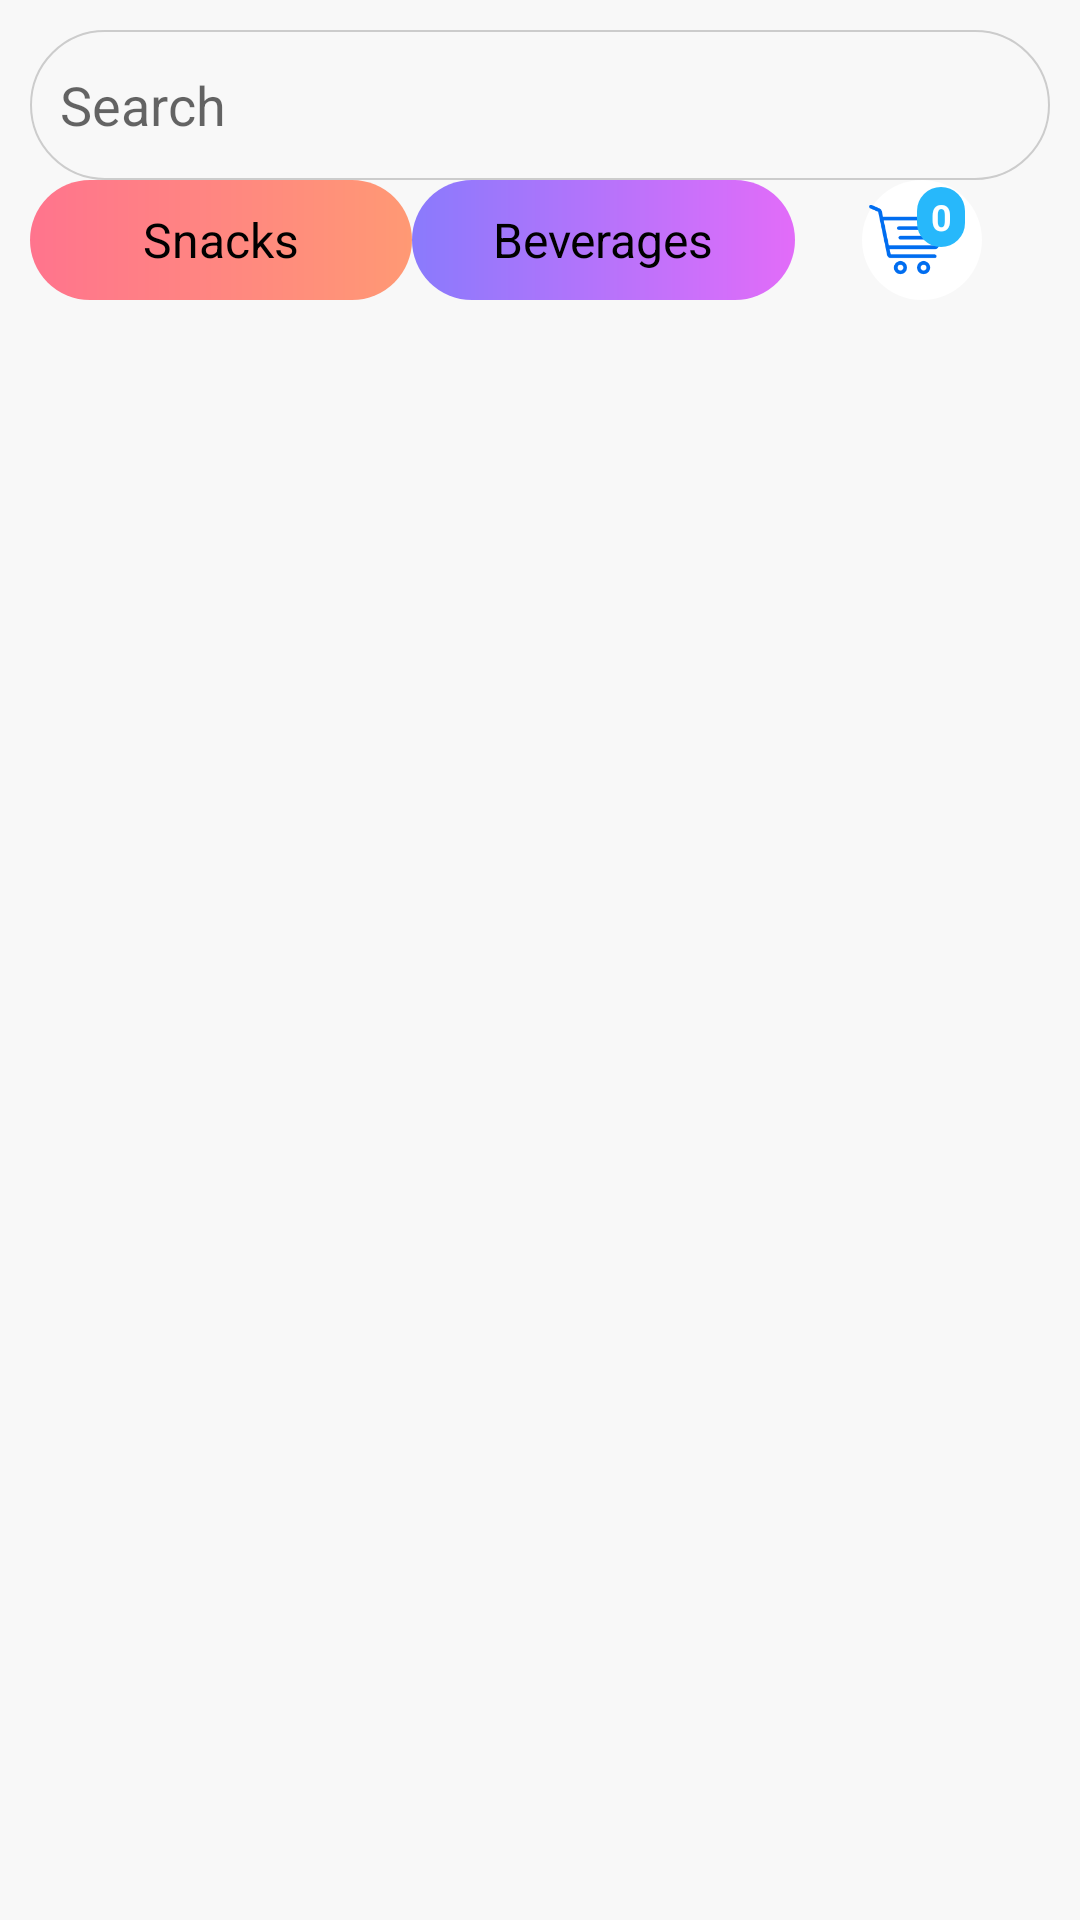

Named icons in this screenshot (1080 × 1920) and their bounding boxes, (x1, y1, x2, y2):
cart: (869, 202, 944, 275)
